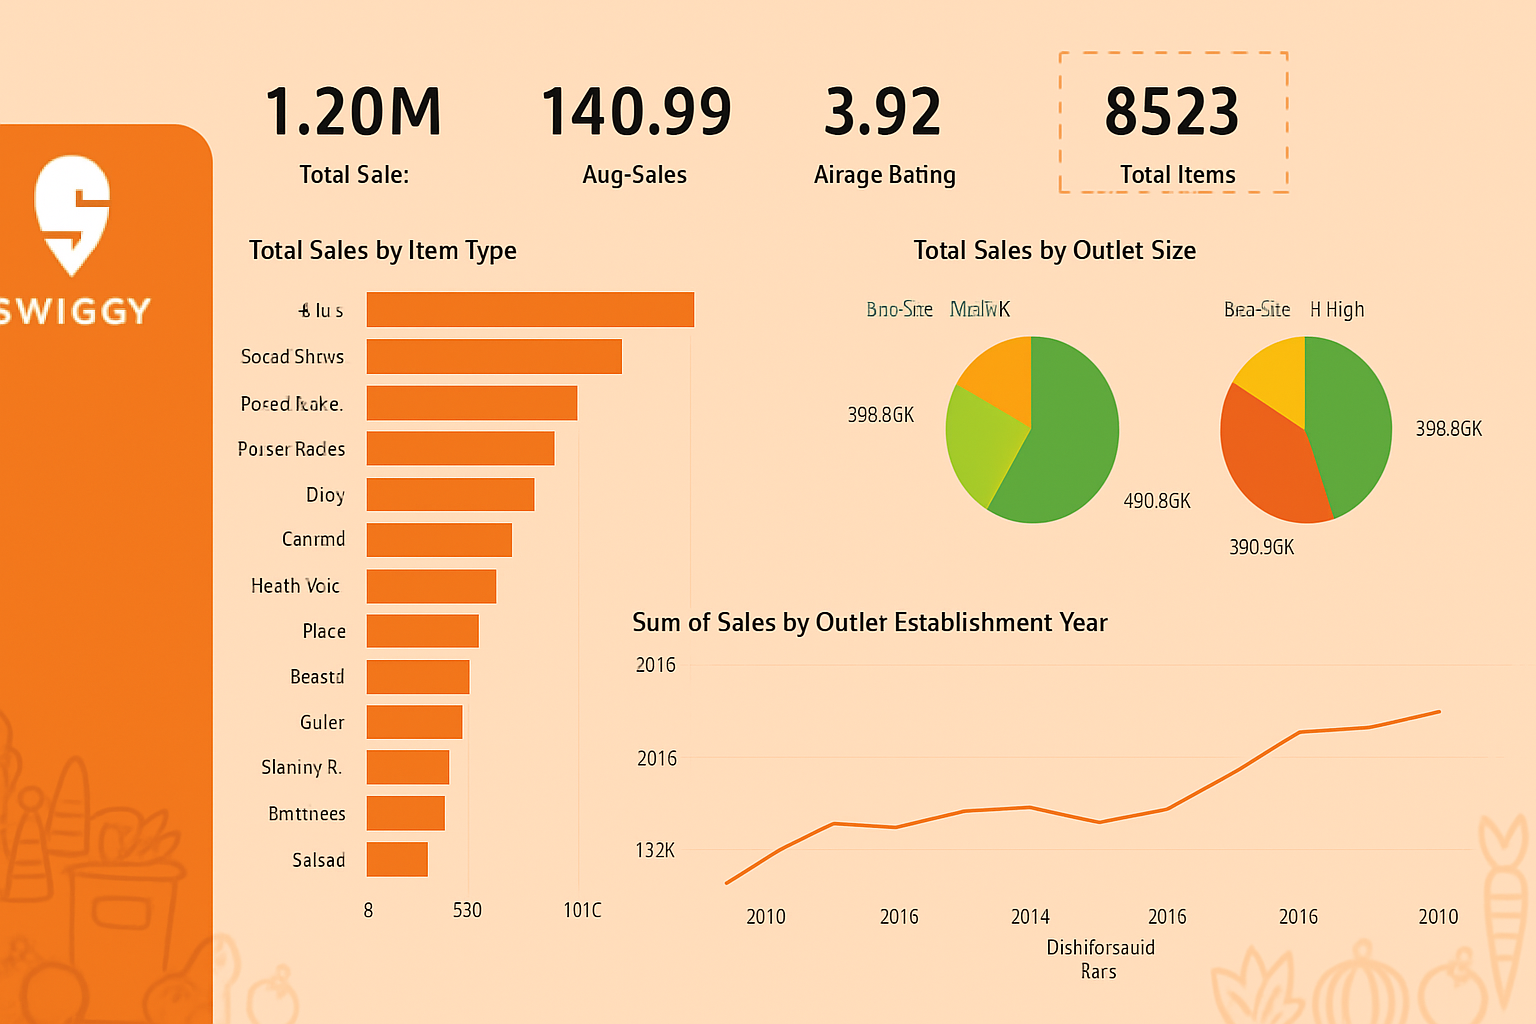

The page's visual inventory and layout, read from the dashboard file:
{"tool":"powerbi","page":{"name":"Sales View","canvas":[1300,750],"ordinal":0},"visuals":[{"type":"card","fields":{"Values":["Key Measures (2).Total Sales"]},"box":[301.6,9.9,178.5,98],"z":0},{"type":"clusteredBarChart","fields":{"Category":["BlinkIT Grocery Data.Item Type"],"Y":["Key Measures (2).Total Sales"]},"box":[220.2,149.8,294.4,570.9],"z":1000},{"type":"card","fields":{"Values":["Key Measures (2).Avg Sales"]},"box":[500.4,9.9,178,98],"z":2000},{"type":"card","fields":{"Values":["Key Measures (2).Avg Rating"]},"box":[698.6,9.9,178.5,98],"z":3000},{"type":"card","fields":{"Values":["Key Measures (2).Total Items"]},"box":[897.4,9.9,178,98.6],"z":4000},{"type":"donutChart","fields":{"Category":["BlinkIT Grocery Data.Outlet Location Type"],"Y":["Key Measures (2).Sales %"]},"box":[532.2,181.8,353,206],"z":5000},{"type":"donutChart","fields":{"Category":["BlinkIT Grocery Data.Outlet Size"],"Y":["Key Measures (2).Sales %"]},"box":[920.3,179.2,353.3,206.1],"z":6000},{"type":"areaChart","fields":{"Category":["BlinkIT Grocery Data.Outlet Establishment Year"],"Y":["Key Measures (2).Total Sales"]},"box":[531.2,465.9,737.3,254.7],"z":7000},{"type":"shape","box":[20.1,59.1,189.8,661],"z":8000},{"type":"image","box":[20.1,60.3,157.1,148.3],"z":9000},{"type":"slicer","fields":{"Values":["BlinkIT Grocery Data.Outlet Location Type"]},"box":[28.4,225.6,171.5,74.2],"z":10000},{"type":"slicer","fields":{"Values":["BlinkIT Grocery Data.Outlet Size"]},"box":[28.4,317.7,171.5,74.2],"z":11000},{"type":"textbox","box":[20.5,10.2,254.7,60.2],"z":12000},{"type":"slicer","fields":{"Values":["BlinkIT Grocery Data.Outlet Establishment Year"]},"box":[28.4,407.3,171.5,74.2],"z":13000},{"type":"textbox","box":[532.5,134.4,742.4,39.7],"z":14000},{"type":"textbox","box":[528.6,426.2,736,39.7],"z":15000},{"type":"card","fields":{"Values":["Key Measures (2).Dynamic Year"]},"box":[220.2,119,294.4,30.7],"z":16000},{"type":"card","fields":{"Values":["Key Measures (2).Top Selling Item"]},"box":[1095.7,9.9,178,98],"z":17000}]}

Visuals, with their boxes on the page's 1300x750 design canvas (x1, y1, x2, y2). These are canvas units, not pixel positions in the 1536x1024 screenshot, which may show the page scaled, cropped or inside an application window:
card - Key Measures (2).Total Sales: 302,10,480,108
clusteredBarChart - BlinkIT Grocery Data.Item Type x Key Measures (2).Total Sales: 220,150,515,721
card - Key Measures (2).Avg Sales: 500,10,678,108
card - Key Measures (2).Avg Rating: 699,10,877,108
card - Key Measures (2).Total Items: 897,10,1075,108
donutChart - BlinkIT Grocery Data.Outlet Location Type x Key Measures (2).Sales %: 532,182,885,388
donutChart - BlinkIT Grocery Data.Outlet Size x Key Measures (2).Sales %: 920,179,1274,385
areaChart - BlinkIT Grocery Data.Outlet Establishment Year x Key Measures (2).Total Sales: 531,466,1268,721
shape: 20,59,210,720
image: 20,60,177,209
slicer - BlinkIT Grocery Data.Outlet Location Type: 28,226,200,300
slicer - BlinkIT Grocery Data.Outlet Size: 28,318,200,392
textbox: 20,10,275,70
slicer - BlinkIT Grocery Data.Outlet Establishment Year: 28,407,200,482
textbox: 532,134,1275,174
textbox: 529,426,1265,466
card - Key Measures (2).Dynamic Year: 220,119,515,150
card - Key Measures (2).Top Selling Item: 1096,10,1274,108
